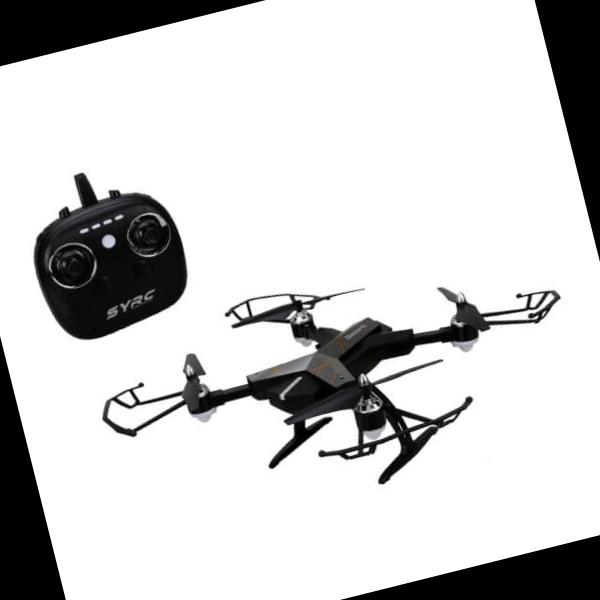drone: (63, 223, 600, 547)
